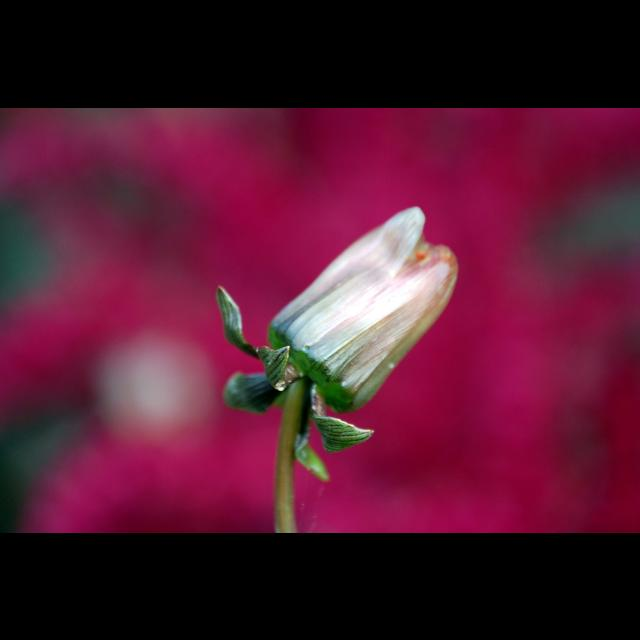Flower: (220, 192, 460, 450)
